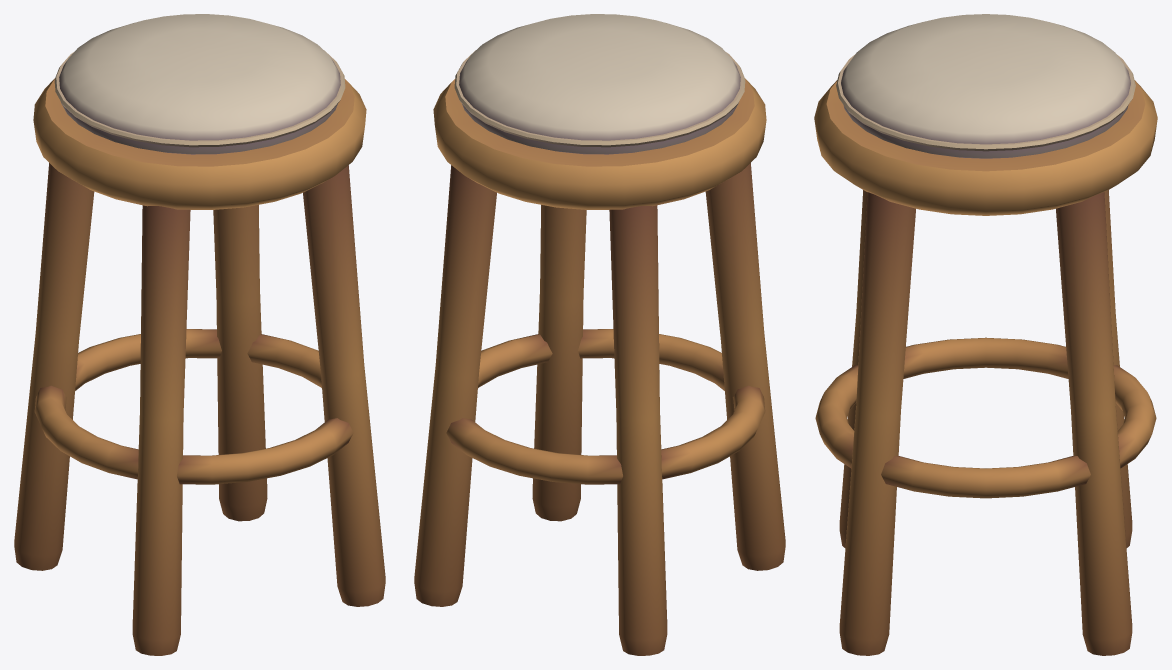
Rendered from stool_classic.glb.
3 renders of one model, left to right at view 1: azimuth 30°, elevation 25°; view 2: azimuth 150°, elevation 25°; view 3: azimuth 270°, elevation 25°, orthographic. The views are drawn at different scales.
Visible parts, largest first — view 1: stool_classic; view 2: stool_classic; view 3: stool_classic.
Boxes of the visible parts, x1=… form: stool_classic: x1=14, y1=14, x2=385, y2=655; stool_classic: x1=414, y1=14, x2=785, y2=655; stool_classic: x1=814, y1=14, x2=1157, y2=655.
Size of the model in its own units: 0.56 by 0.9757 by 0.56.
